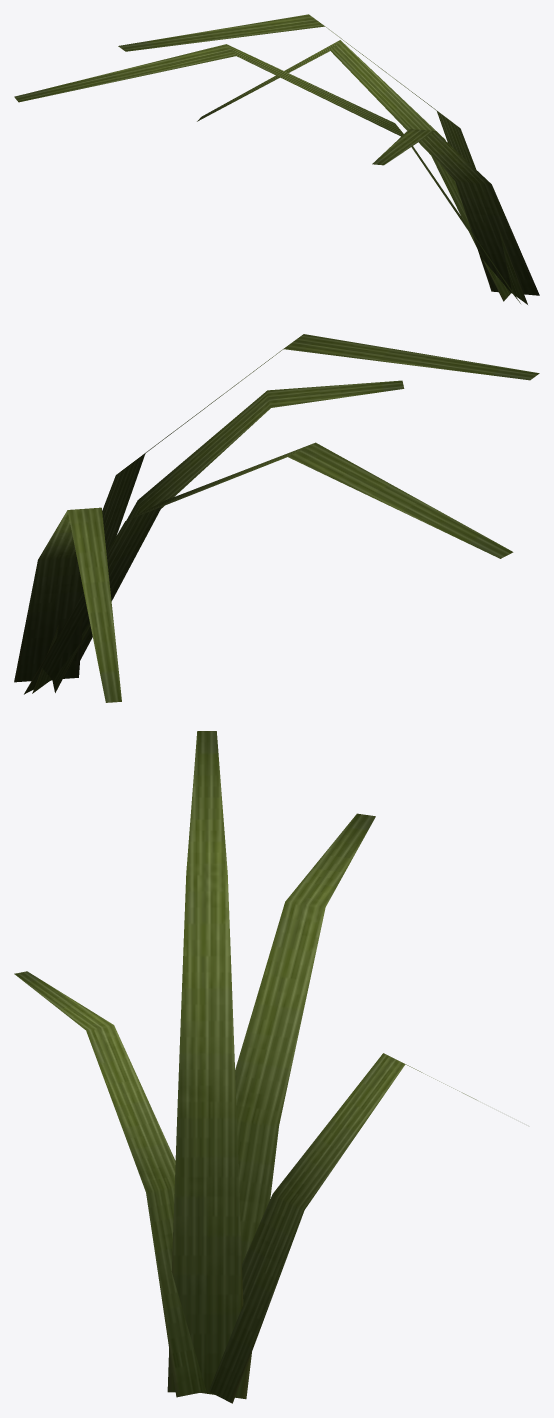
Rendered from grass.fbx.
3 renders of one model, top to bottom at view 1: azimuth 30°, elevation 25°; view 2: azimuth 150°, elevation 25°; view 3: azimuth 270°, elevation 25°, orthographic. The views are drawn at different scales.
Parts seen in each view (by area): view 1: grass; view 2: grass; view 3: grass.
Part boxes in pixels (<box>): grass: <box>14,14,539,304</box>; grass: <box>14,334,539,702</box>; grass: <box>14,731,477,1403</box>.
Size of the model in its own units: 1.94 by 1.4 by 1.57.
